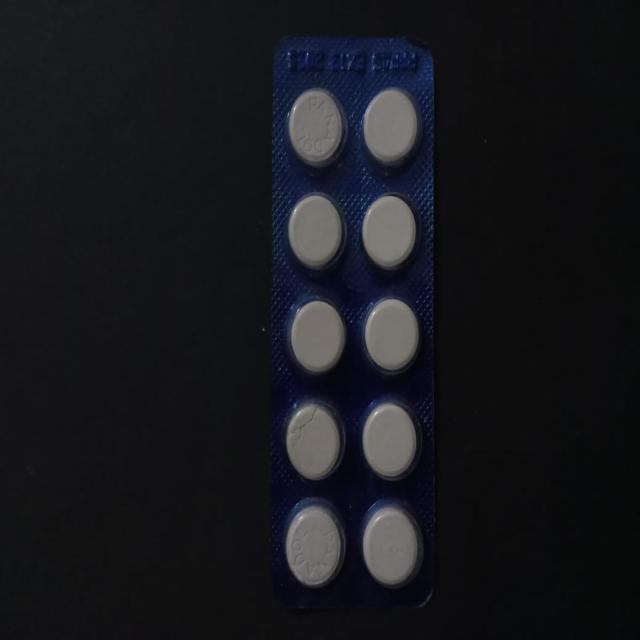defect: (283, 397, 348, 483)
